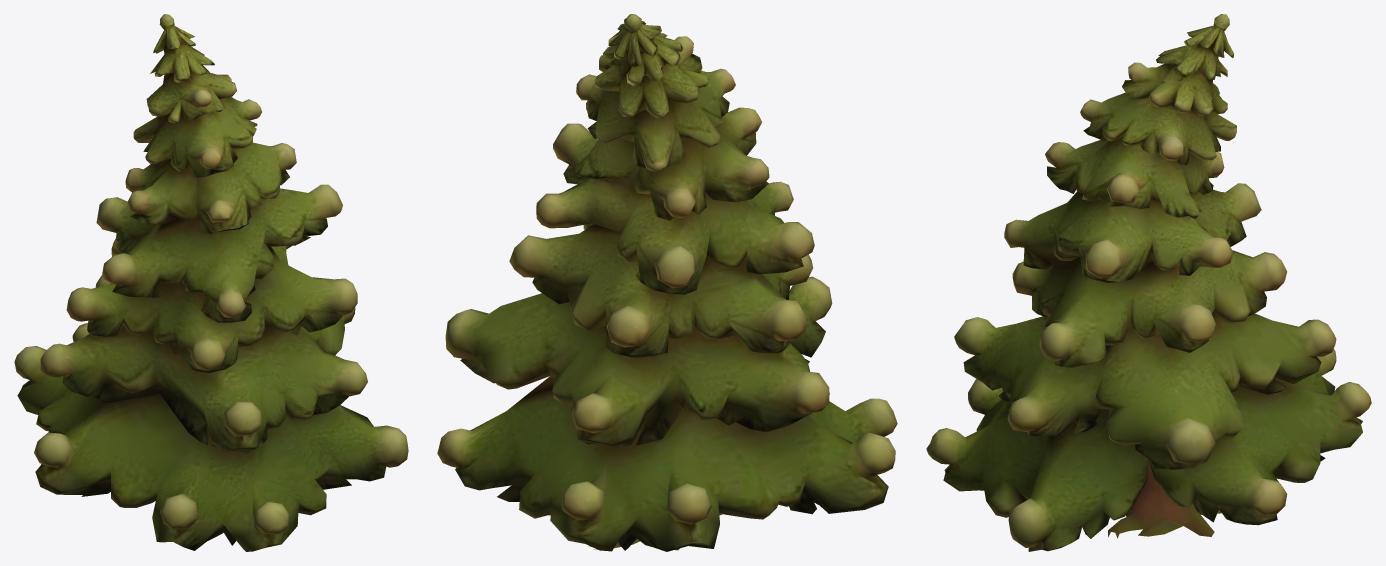
File: pine_1.glb
3 views of the same model, side by side, from view 1: azimuth 30°, elevation 25°; view 2: azimuth 150°, elevation 25°; view 3: azimuth 270°, elevation 25° (orthographic). The views are drawn at different scales.
Visible parts, largest first — view 1: tripo_node_72f75d9b-0bc5-456c-ac9f-04e7e676df37; view 2: tripo_node_72f75d9b-0bc5-456c-ac9f-04e7e676df37; view 3: tripo_node_72f75d9b-0bc5-456c-ac9f-04e7e676df37.
Boxes of the visible parts, left/top/right/bottom form: tripo_node_72f75d9b-0bc5-456c-ac9f-04e7e676df37: left=14, top=14, right=408, bottom=551; tripo_node_72f75d9b-0bc5-456c-ac9f-04e7e676df37: left=437, top=14, right=897, bottom=551; tripo_node_72f75d9b-0bc5-456c-ac9f-04e7e676df37: left=926, top=14, right=1371, bottom=551.
Bounding box in the file's own units: 5.81 × 7.3 × 5.96.
1 material, 1 textured.
